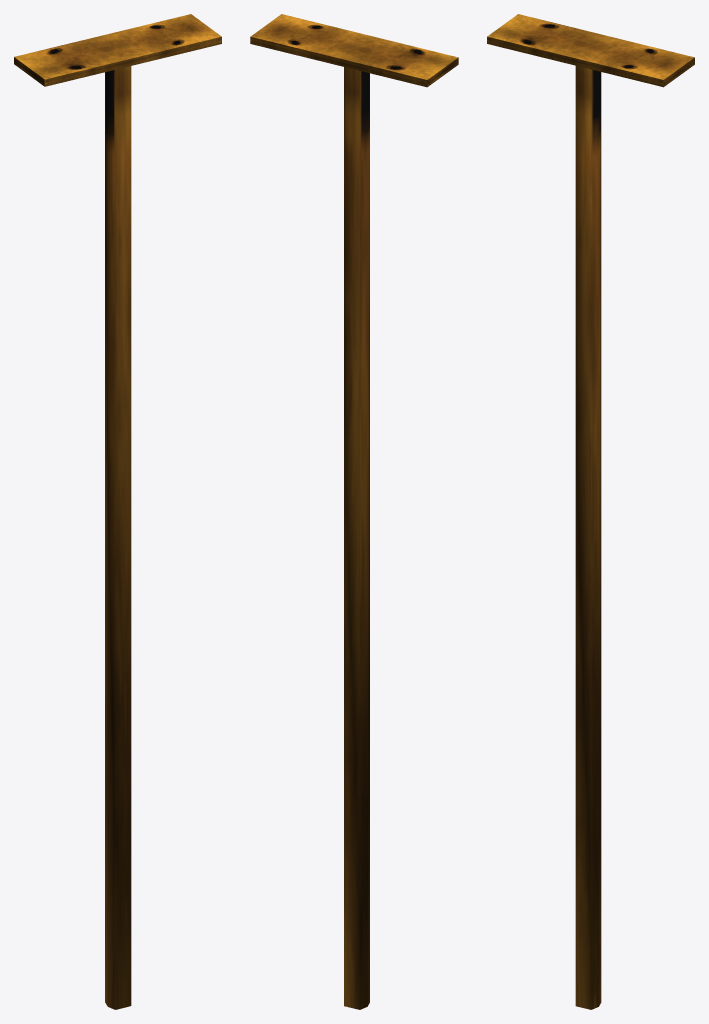
File: gaul_standard_post.dae
3 renders of one model, left to right at view 1: azimuth 30°, elevation 25°; view 2: azimuth 150°, elevation 25°; view 3: azimuth 330°, elevation 25°, orthographic.
Parts seen in each view (by area): view 1: celt_boar.002; view 2: celt_boar.002; view 3: celt_boar.002.
Part boxes in pixels (x1=…): celt_boar.002: x1=14, y1=14, x2=221, y2=1009; celt_boar.002: x1=250, y1=14, x2=458, y2=1009; celt_boar.002: x1=487, y1=14, x2=694, y2=1009.
Bounding box in the file's own units: 0.8313 × 0.2547 × 4.29.
